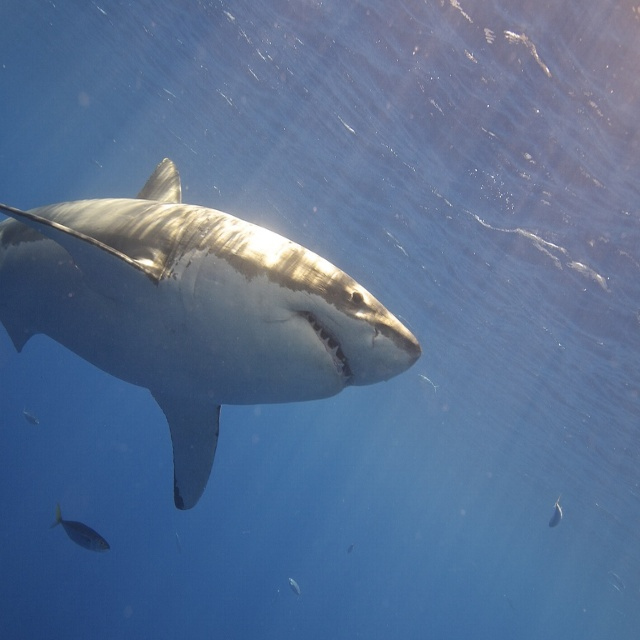Shark: (0, 157, 423, 507)
